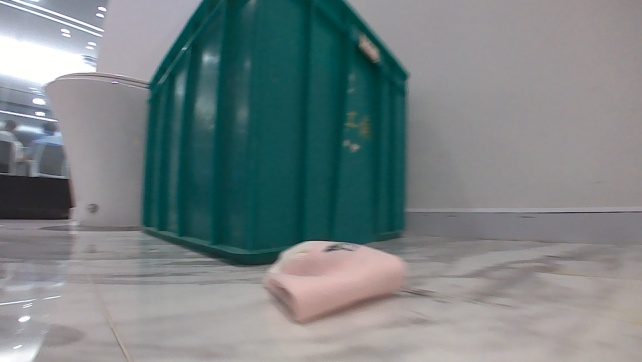socks: (255, 237, 409, 326)
toilet: (38, 69, 150, 231)
